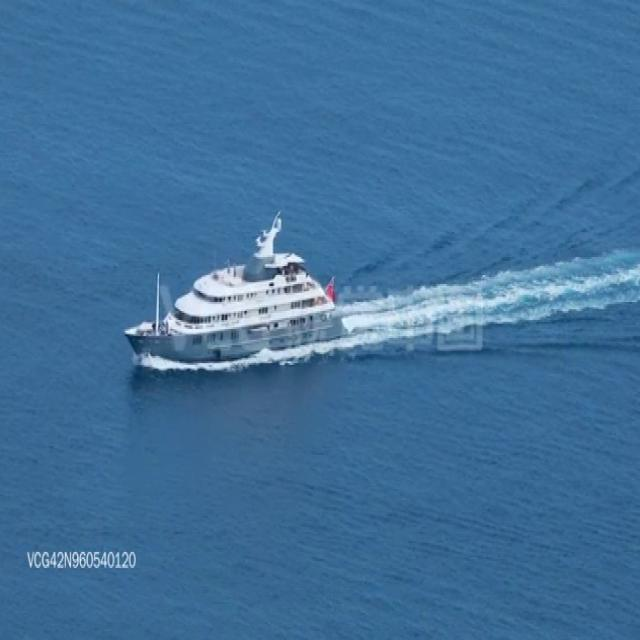passenger ship: (125, 212, 348, 358)
